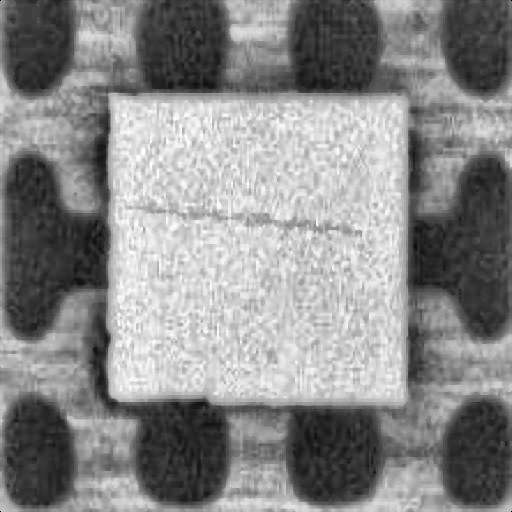DIE_CRACK: (184, 136, 512, 153)
